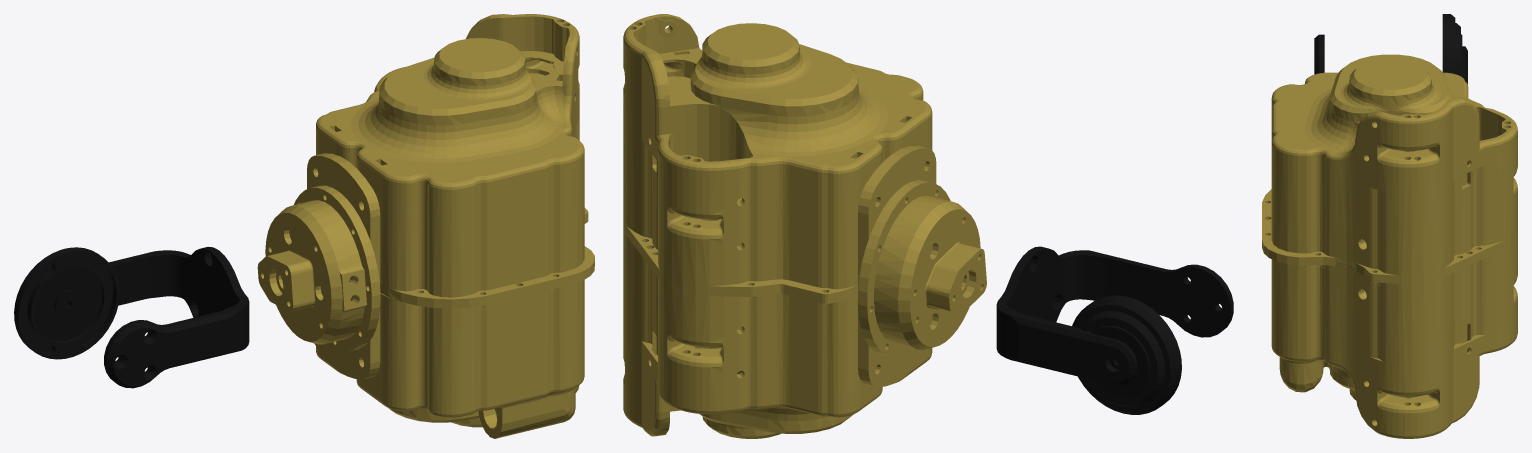
File: endEffectorWPalm_right.obj
The picture shows the model from 3 angles, left to right: view 1: azimuth 30°, elevation 25°; view 2: azimuth 150°, elevation 25°; view 3: azimuth 270°, elevation 25°; orthographic projection. The views are drawn at different scales.
Parts seen in each view (by area): view 1: palm.001_palm.002, wrist_yaw_right.005_wrist_yaw_right.006, wrist_yaw_right_flange.005_wrist_yaw_right_flange.006; view 2: palm.001_palm.002, wrist_yaw_right.005_wrist_yaw_right.006, wrist_yaw_right_flange.005_wrist_yaw_right_flange.006; view 3: palm.001_palm.002, wrist_yaw_right_flange.005_wrist_yaw_right_flange.006, wrist_yaw_right.005_wrist_yaw_right.006.
Part boxes in pixels (x1=…): palm.001_palm.002: x1=257, y1=14, x2=594, y2=438; wrist_yaw_right.005_wrist_yaw_right.006: x1=34, y1=246, x2=249, y2=388; wrist_yaw_right_flange.005_wrist_yaw_right_flange.006: x1=14, y1=247, x2=119, y2=359; palm.001_palm.002: x1=623, y1=14, x2=986, y2=438; wrist_yaw_right.005_wrist_yaw_right.006: x1=996, y1=246, x2=1233, y2=397; wrist_yaw_right_flange.005_wrist_yaw_right_flange.006: x1=1072, y1=295, x2=1181, y2=414; palm.001_palm.002: x1=1262, y1=54, x2=1517, y2=438; wrist_yaw_right_flange.005_wrist_yaw_right_flange.006: x1=1442, y1=14, x2=1460, y2=74; wrist_yaw_right.005_wrist_yaw_right.006: x1=1314, y1=34, x2=1467, y2=84.
Bounding box in the file's own units: 0.2431 × 0.154 × 0.1113.
